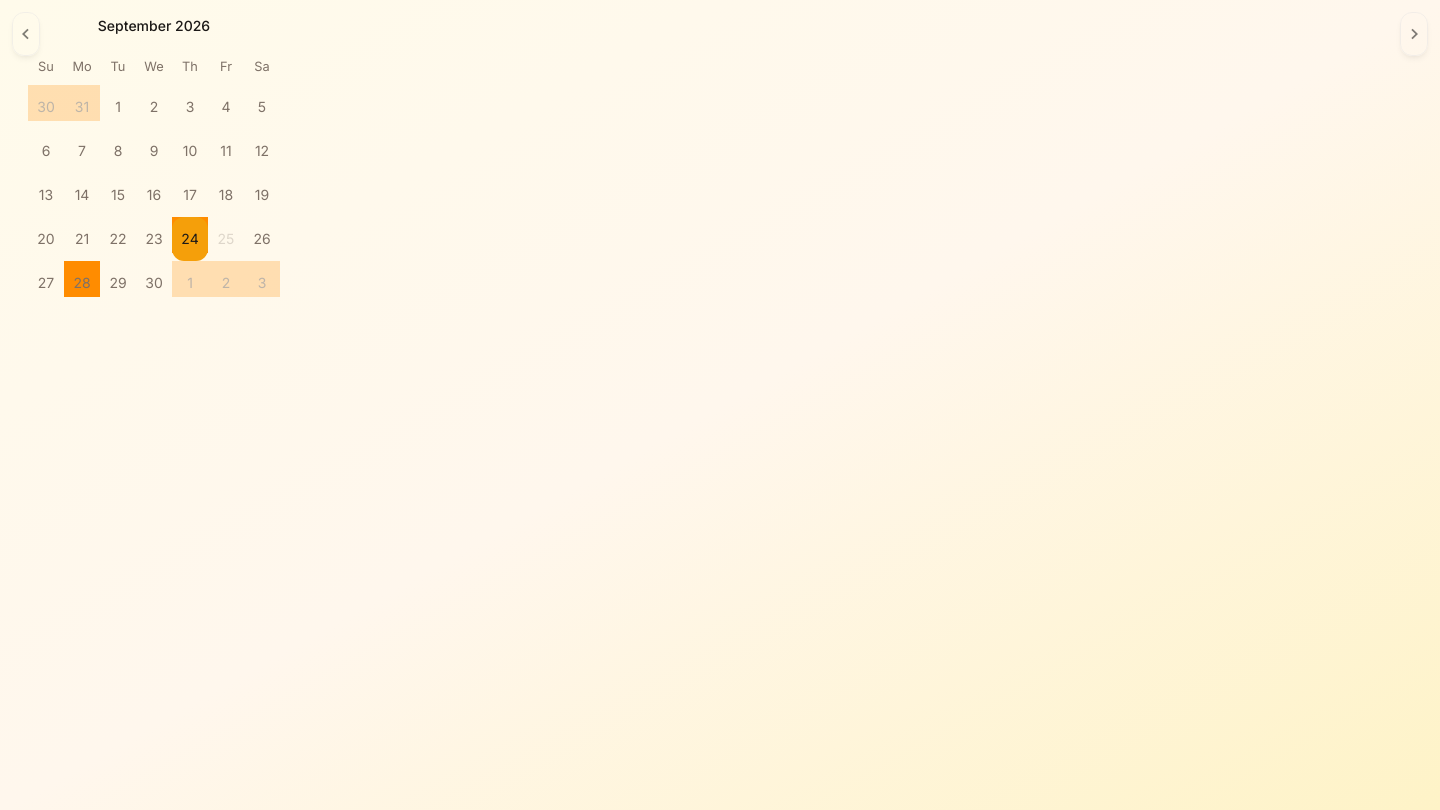
navigates and selects dates with the installed DayPicker API
Expected: the button named "September 25th, 2026" is disabled, [208, 217, 244, 261]
Click the button named "September 26th, 2026": (262, 239) [244, 217, 280, 261]
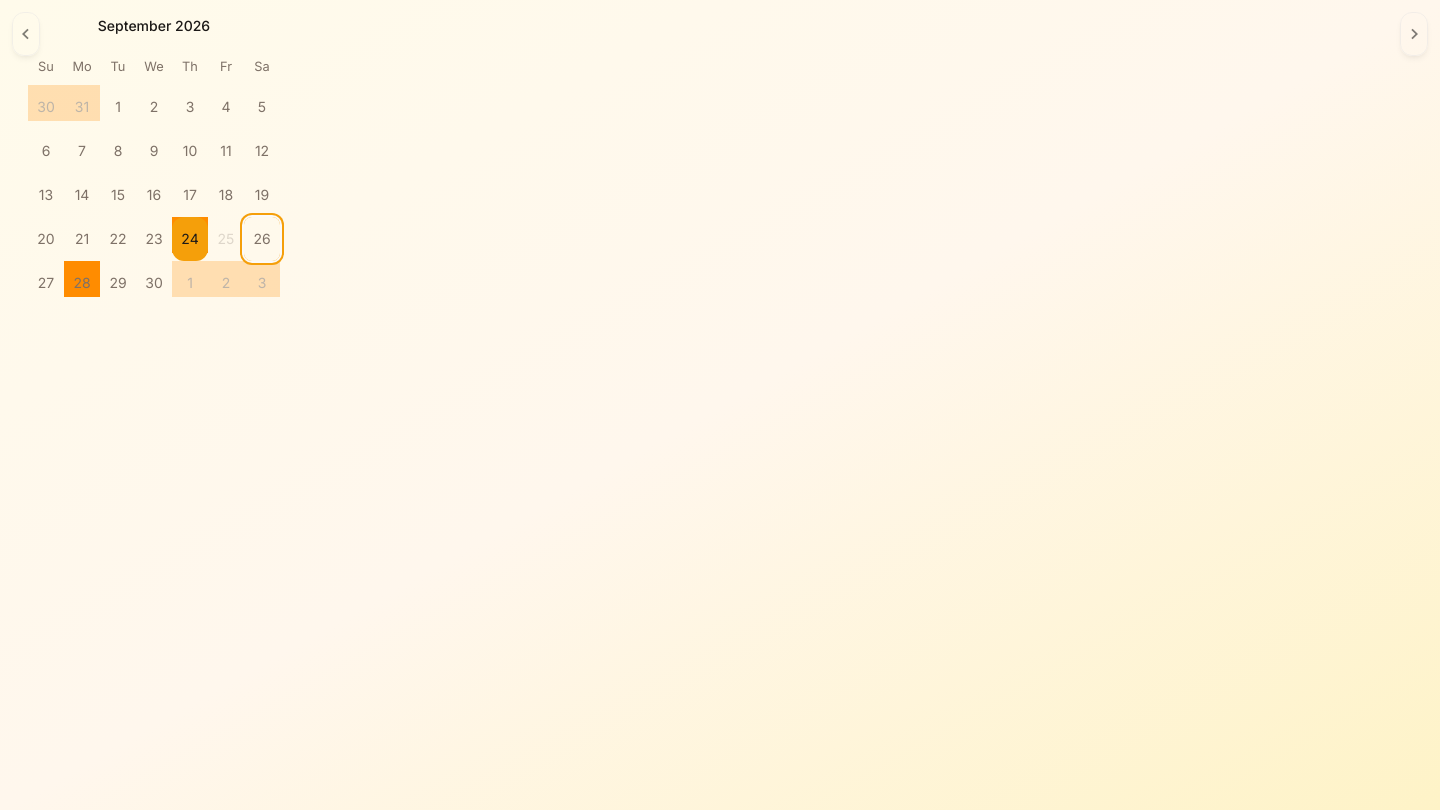
Click the button named "Go to the Next Month": (1414, 34) [1400, 12, 1428, 56]
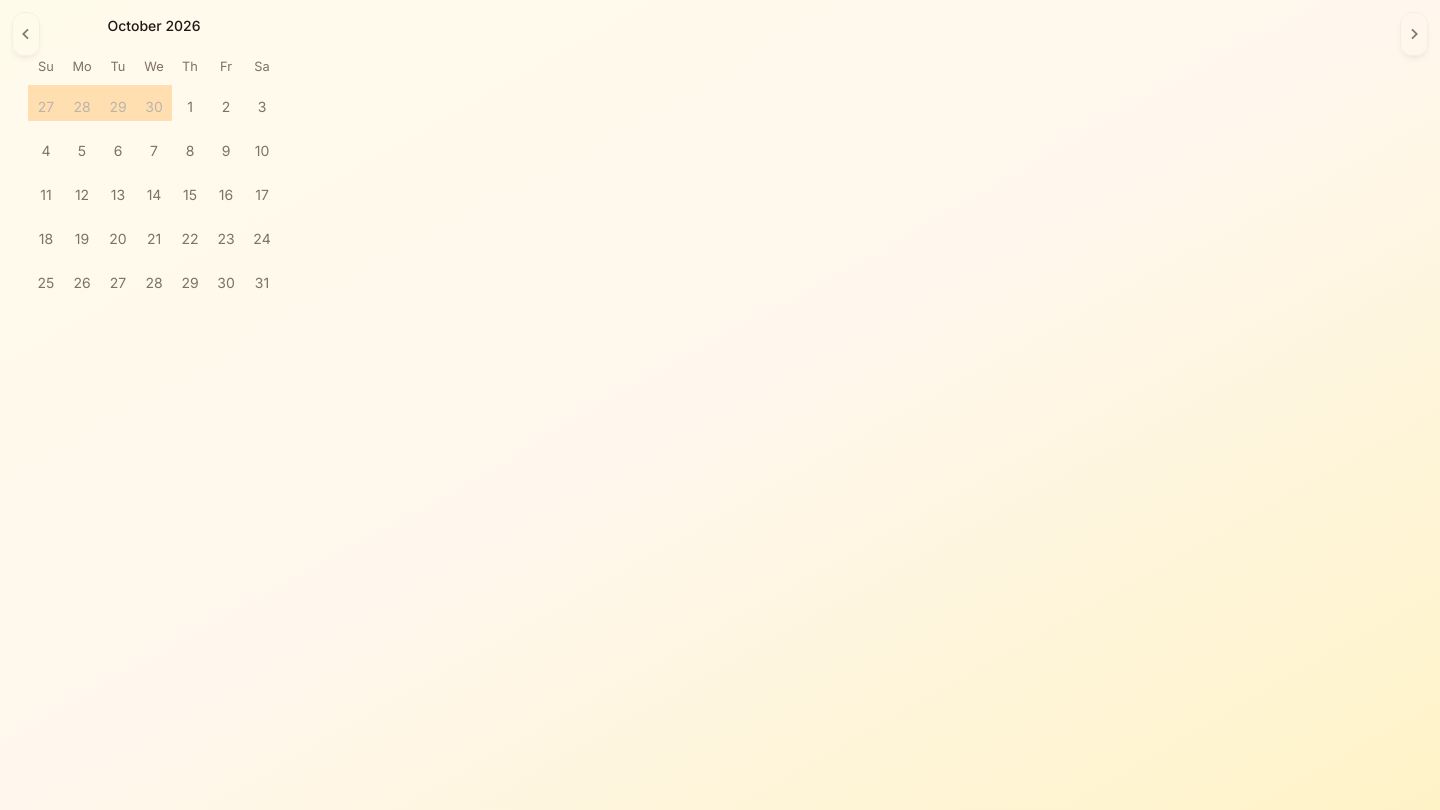
Now the text "October 2026" is shown, box [108, 16, 200, 36]
Click the button named "Go to the Previous Month": (26, 34) [12, 12, 40, 56]
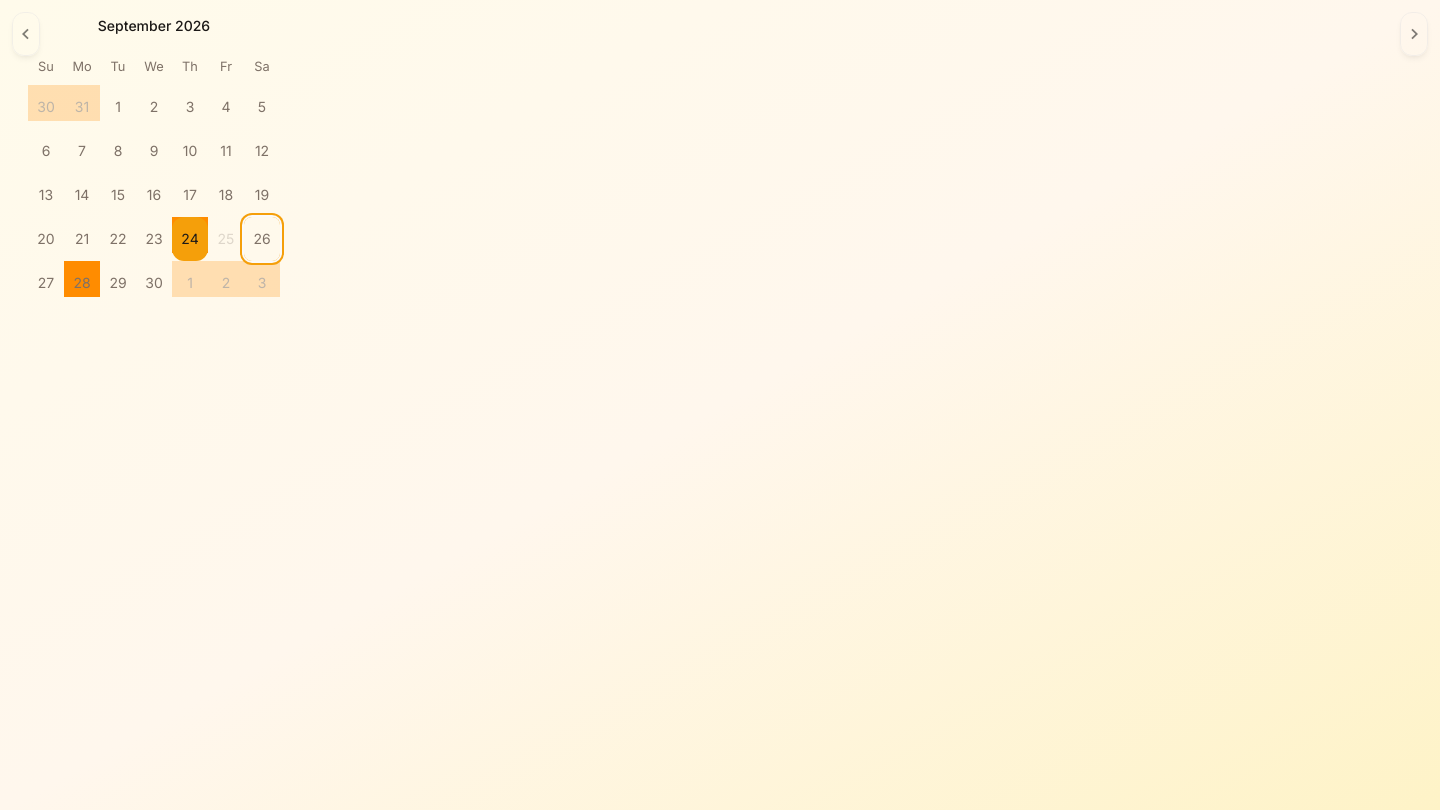
Now the text "September 2026" is shown, box [98, 16, 210, 36]
